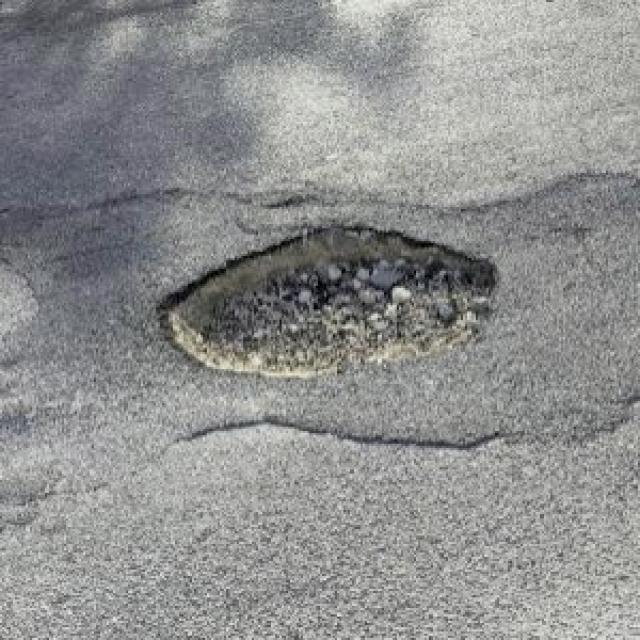pothole: (118, 215, 532, 398)
